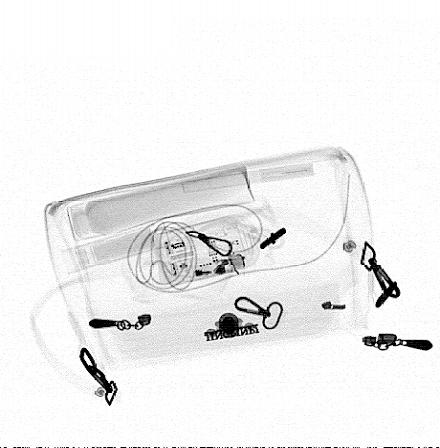Lighter: (177, 253, 247, 283)
